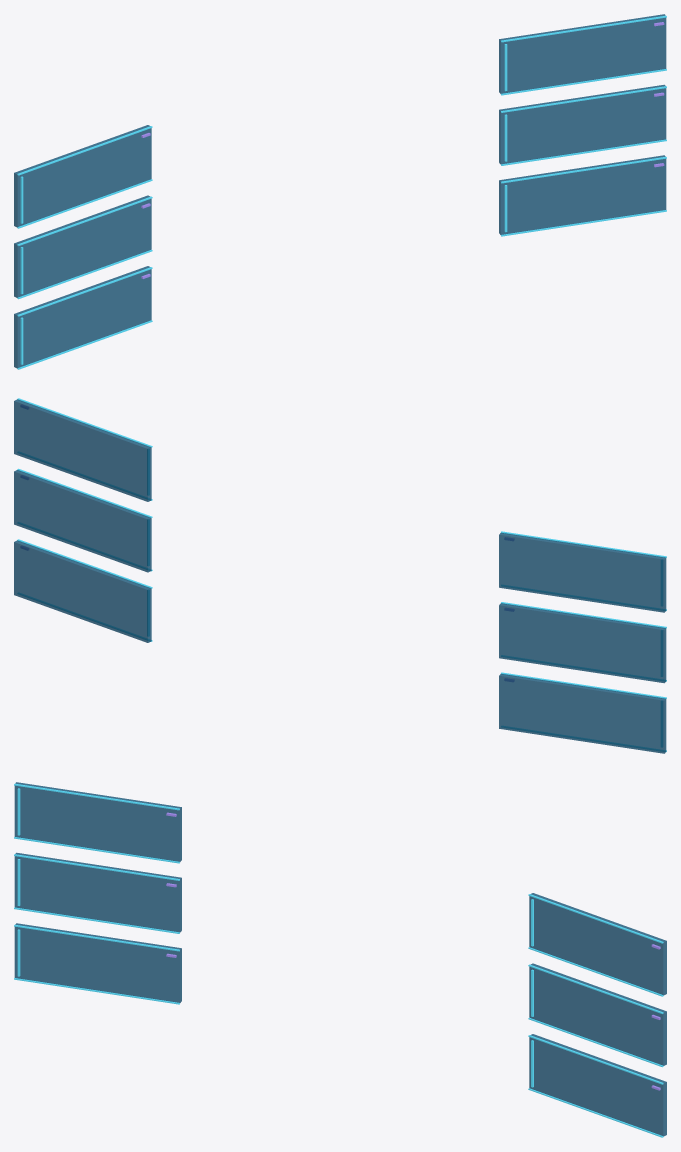
File: 04_service_panels.glb
3 renders of one model, top to bottom at view 1: azimuth 30°, elevation 25°; view 2: azimuth 150°, elevation 25°; view 3: azimuth 330°, elevation 25°, orthographic.
Parts seen in each view (by area): view 1: service_4, service_3, service_5, service_2, service_0, service_1; view 2: service_1, service_0, service_2, service_3, service_4, service_5; view 3: service_1, service_0, service_2, service_5, service_3, service_4.
Boxes of the visible parts, x1,y1,x2,y2 form: service_4: [499, 84, 666, 165]; service_3: [499, 14, 666, 95]; service_5: [499, 155, 666, 236]; service_2: [14, 266, 152, 369]; service_0: [14, 125, 152, 228]; service_1: [14, 195, 152, 299]; service_1: [499, 602, 666, 683]; service_0: [499, 531, 666, 612]; service_2: [499, 672, 666, 753]; service_3: [14, 398, 152, 501]; service_4: [14, 468, 152, 572]; service_5: [14, 539, 152, 642]; service_1: [14, 852, 181, 933]; service_0: [14, 782, 181, 863]; service_2: [14, 923, 181, 1004]; service_5: [528, 1034, 666, 1137]; service_3: [528, 893, 666, 996]; service_4: [528, 963, 666, 1067].
Size of the model in its own units: 8.98 by 2.57 by 0.4647.
